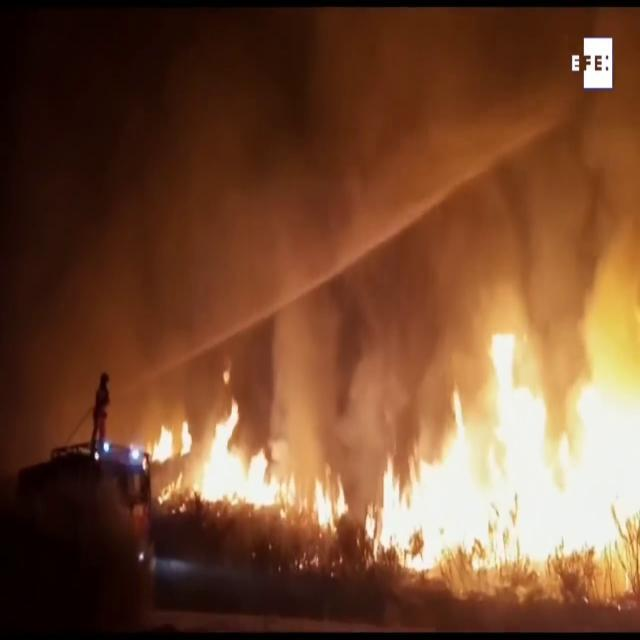Fire: (369, 280, 640, 596), (143, 376, 357, 534)
Smoke: (0, 7, 616, 393)
